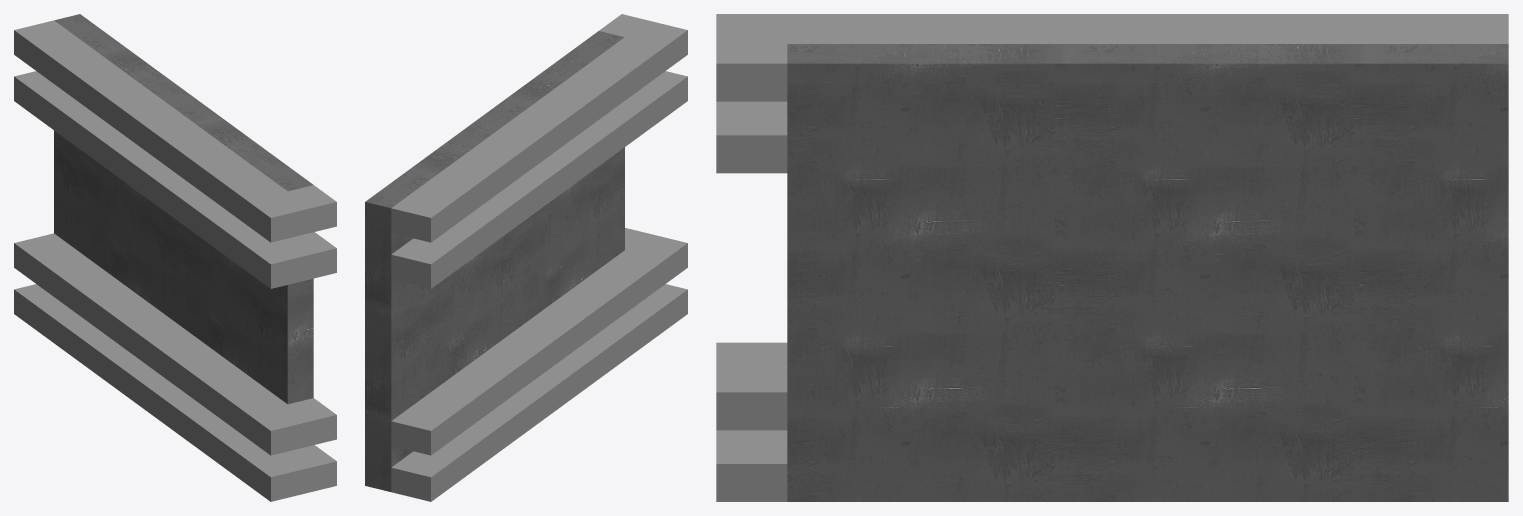
File: railTurn.fbx
The picture shows the model from 3 angles, left to right: view 1: azimuth 30°, elevation 25°; view 2: azimuth 150°, elevation 25°; view 3: azimuth 270°, elevation 25°; orthographic projection. The views are drawn at different scales.
Visible parts, largest first — view 1: railTurn; view 2: railTurn; view 3: railTurn.
Boxes of the visible parts, x1=… form: railTurn: x1=14, y1=14, x2=336, y2=501; railTurn: x1=365, y1=14, x2=687, y2=501; railTurn: x1=716, y1=14, x2=1508, y2=501.
Bounding box in the file's own units: 21.59 × 88.7 × 145.
